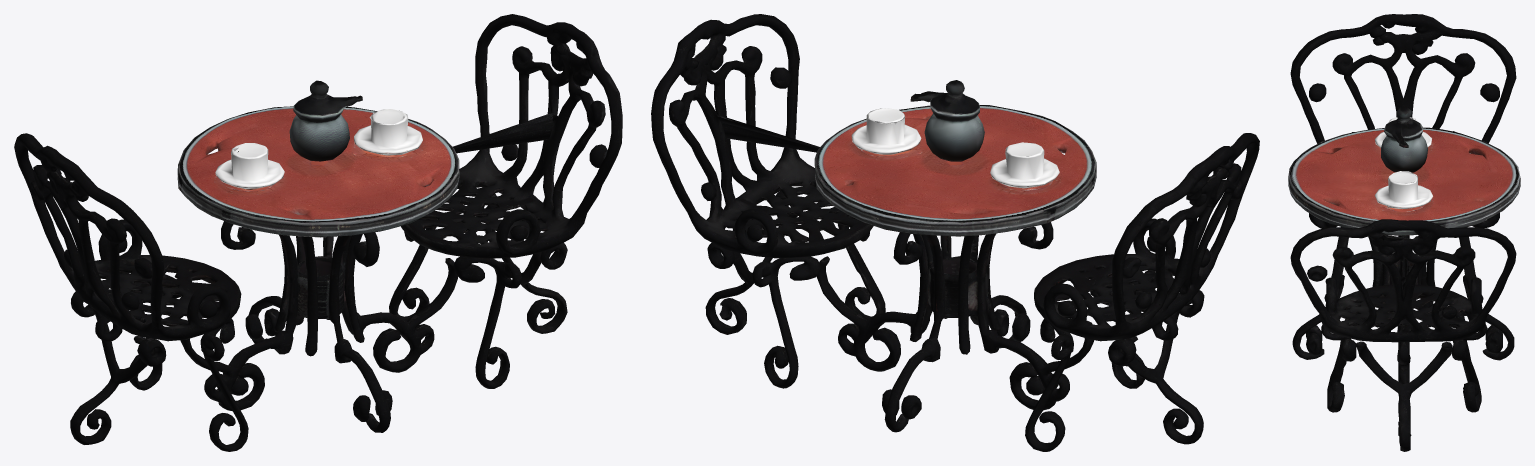
Rendered from garden_table_abandoned.glb.
3 renders of one model, left to right at view 1: azimuth 30°, elevation 25°; view 2: azimuth 150°, elevation 25°; view 3: azimuth 270°, elevation 25°, orthographic. The views are drawn at different scales.
Bounding box in the file's own units: 1.91 × 1.06 × 0.8845.
Materials: 1 (1 with a texture image).
